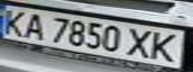0: (100, 22, 127, 54)
5: (84, 20, 106, 51)
7: (45, 15, 72, 44)
8: (66, 17, 87, 47)
A: (18, 11, 48, 40)
K: (145, 29, 187, 64), (0, 7, 30, 36)
X: (124, 25, 157, 60)
